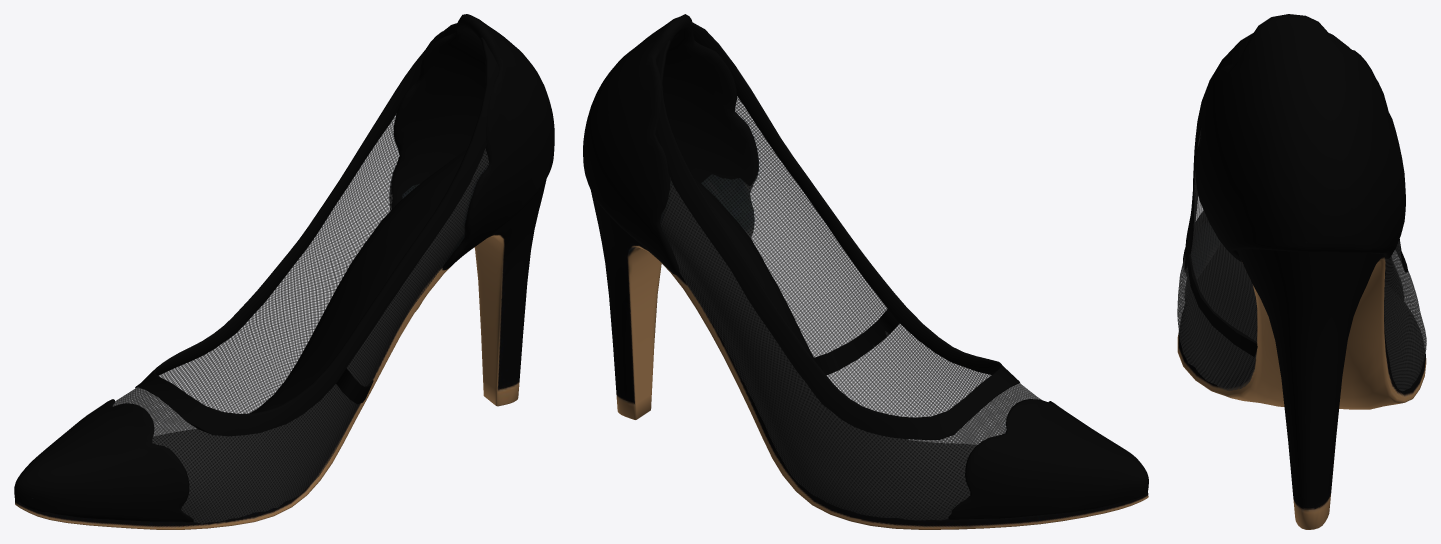
File: shoe_3.glb
3 renders of one model, left to right at view 1: azimuth 30°, elevation 25°; view 2: azimuth 150°, elevation 25°; view 3: azimuth 270°, elevation 25°, orthographic. The views are drawn at different scales.
Parts seen in each view (by area): view 1: ef9b739aec0c42d98d84759ca8641a89; view 2: ef9b739aec0c42d98d84759ca8641a89; view 3: ef9b739aec0c42d98d84759ca8641a89.
Boxes of the visible parts, box(x1,y1,x2,y2) form: ef9b739aec0c42d98d84759ca8641a89: box(14, 14, 554, 529); ef9b739aec0c42d98d84759ca8641a89: box(583, 14, 1148, 529); ef9b739aec0c42d98d84759ca8641a89: box(1177, 14, 1426, 529).
Bounding box in the file's own units: 1 × 0.716 × 0.3246.
Materials: 1 (1 with a texture image).
